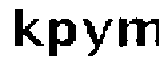k: (11, 6, 45, 51)
m: (117, 13, 160, 50)
p: (47, 16, 78, 60)
y: (84, 12, 114, 58)
